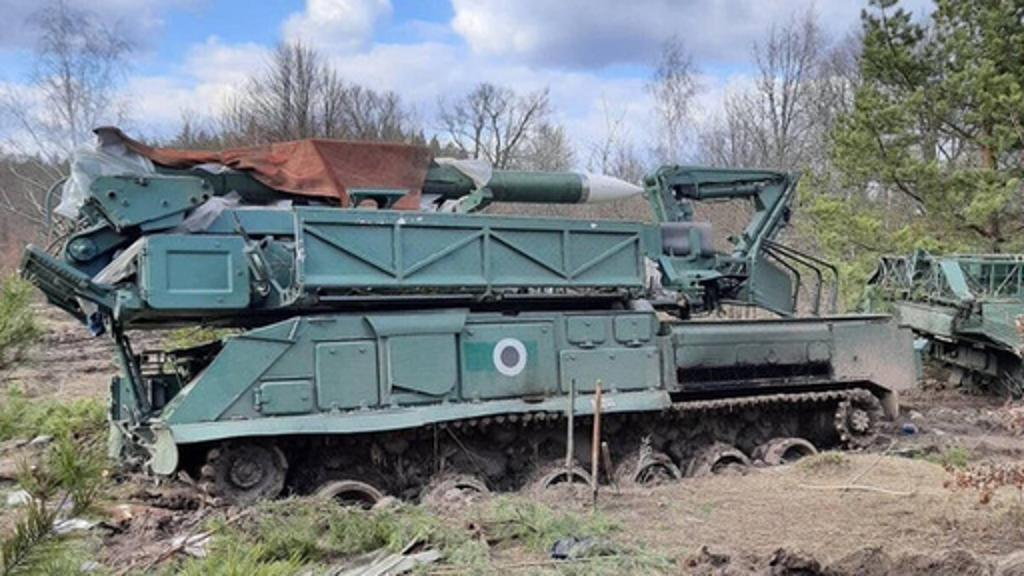MLRS: (18, 116, 926, 526)
